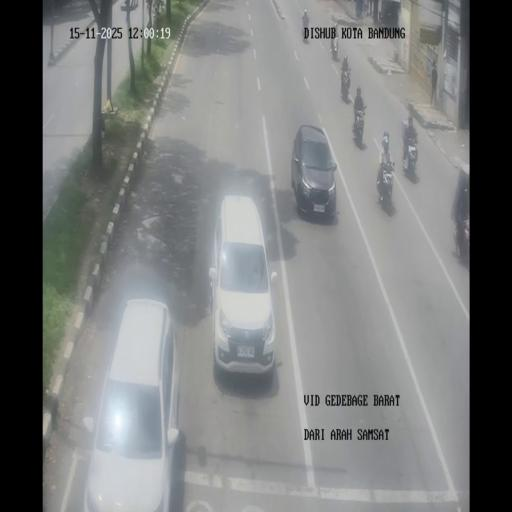car: (82, 299, 180, 509), (210, 195, 277, 375), (291, 124, 336, 220)
truck: (376, 158, 396, 214), (453, 210, 470, 262), (402, 128, 419, 179), (352, 106, 366, 147), (340, 70, 351, 102), (381, 130, 390, 153), (302, 19, 310, 42), (331, 37, 338, 60), (341, 55, 348, 73), (362, 0, 368, 17), (378, 10, 383, 23)
